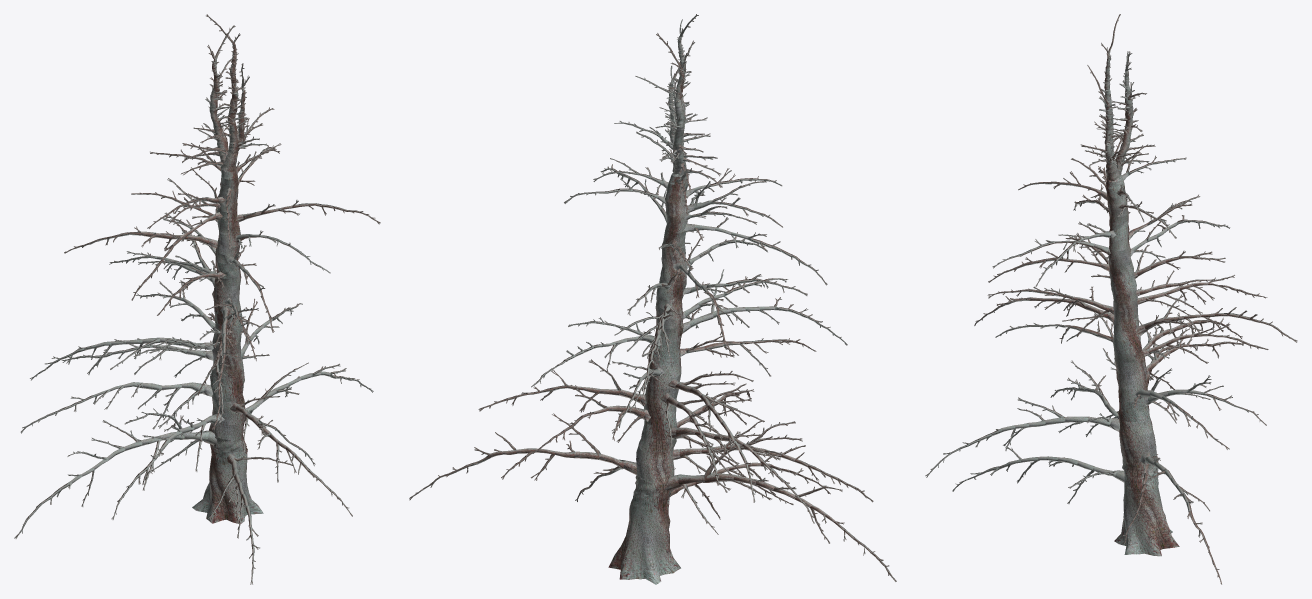
File: fir_1.obj
3 views of the same model, side by side, from view 1: azimuth 30°, elevation 25°; view 2: azimuth 150°, elevation 25°; view 3: azimuth 270°, elevation 25° (orthographic). The views are drawn at different scales.
Visible parts, largest first — view 1: fir_1; view 2: fir_1; view 3: fir_1.
Part boxes in pixels (bbox=[...]): fir_1: bbox=[14, 14, 380, 584]; fir_1: bbox=[409, 14, 896, 584]; fir_1: bbox=[925, 14, 1297, 584].
Bounding box in the file's own units: 8.35 × 10.11 × 6.66.
1 material, 1 textured.
